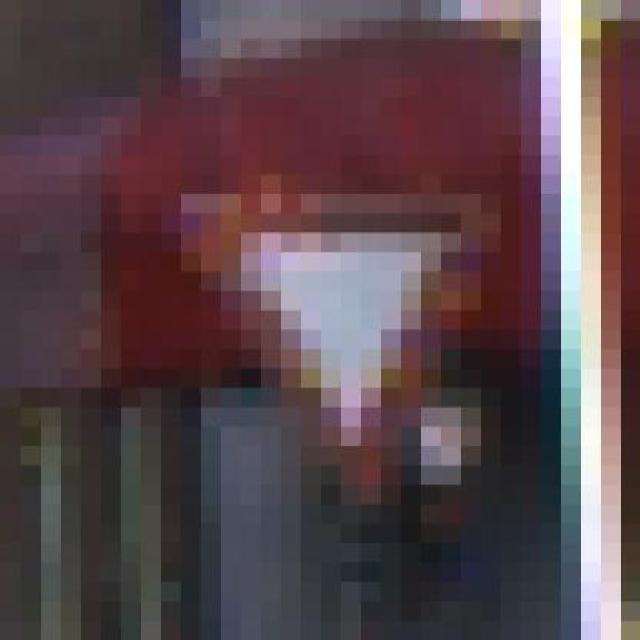Give Way: (120, 116, 540, 544)
